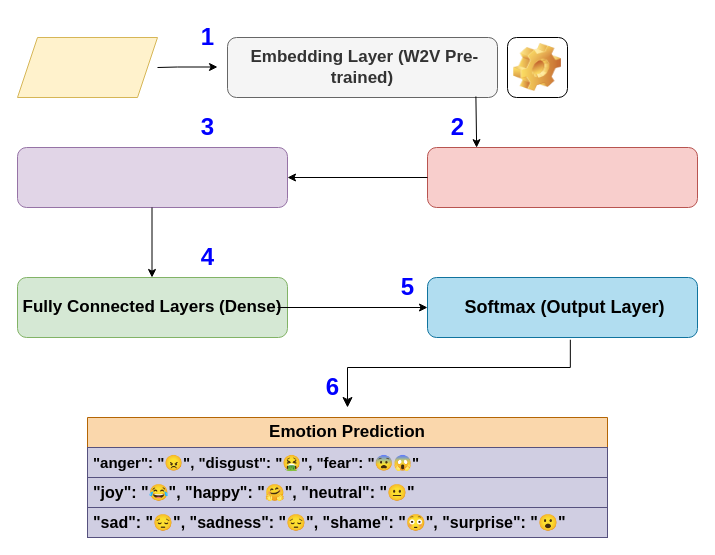
The diagram is 715 pixels wide and 555 high, and some of its shapes have lost their labels. The shapes that lost their labels are listed below. From the top down, each one's centre as x and y in pixels, then its label:
At point (87, 67): "INPUT TEXT".
At point (537, 67): "Icon".
At point (152, 177): "Global Max Pooling (Feature Selection)".
At point (562, 177): "Convolutional Layer (1D CNN)".
